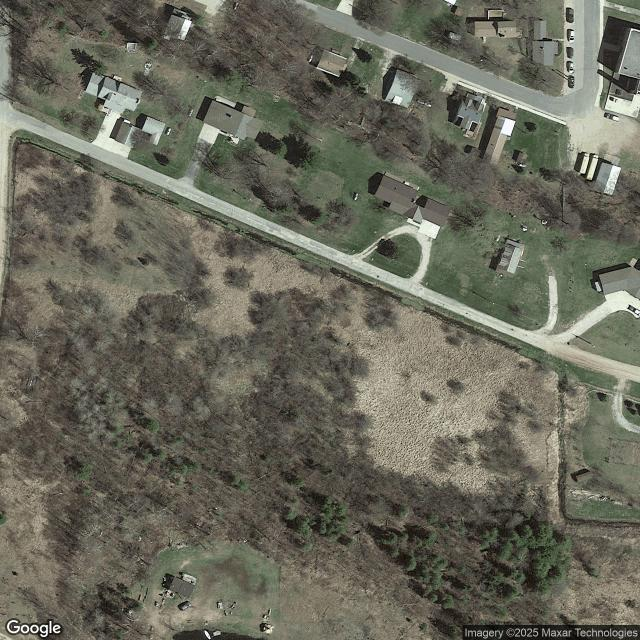Propane: (166, 127, 172, 137), (188, 108, 194, 118), (233, 2, 239, 11), (308, 54, 314, 62), (417, 99, 425, 105), (353, 193, 359, 201), (425, 102, 432, 108), (519, 163, 527, 168), (496, 234, 501, 242)
